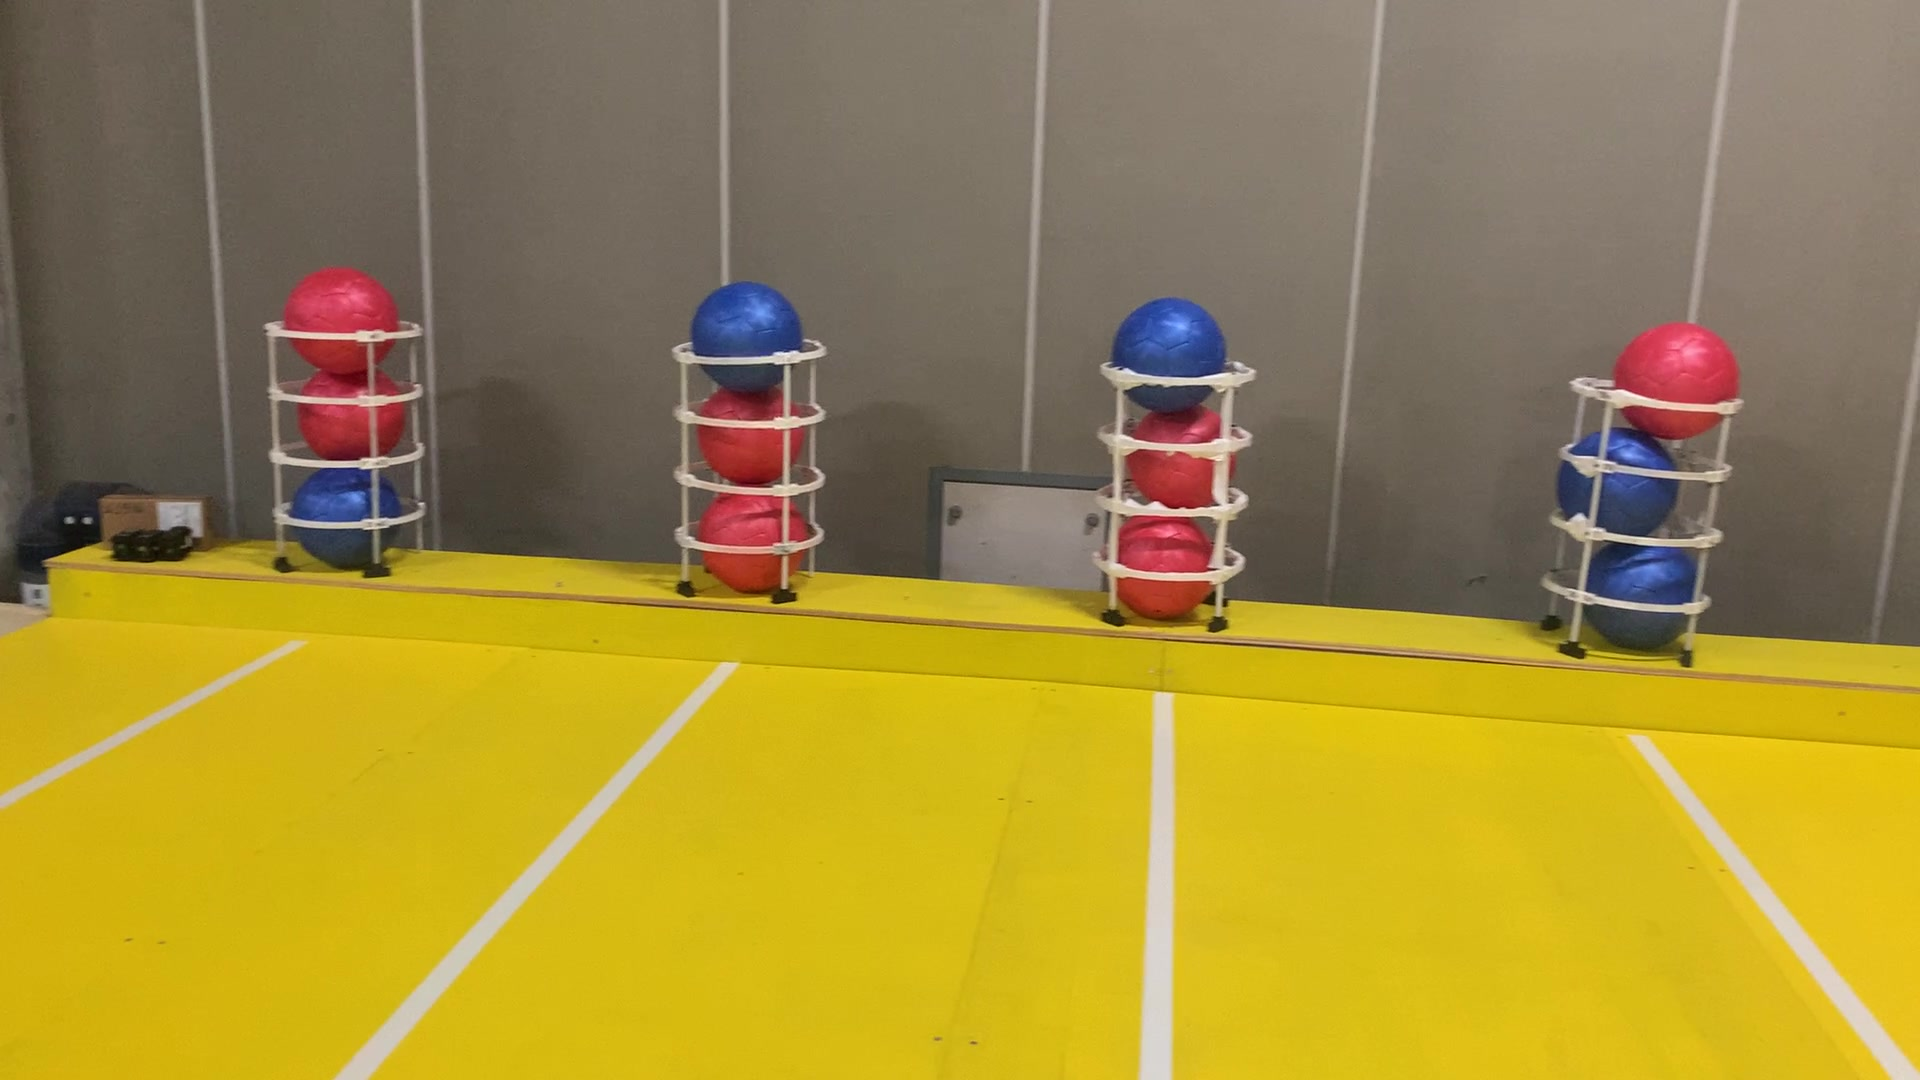blue: (1547, 421, 1684, 539), (1578, 526, 1706, 653), (285, 459, 407, 578), (1105, 294, 1233, 407), (687, 280, 806, 392)
red: (1610, 311, 1742, 443), (277, 261, 401, 380), (295, 352, 410, 471), (1105, 509, 1226, 621), (690, 377, 812, 487), (700, 480, 812, 599), (1126, 398, 1240, 509)
